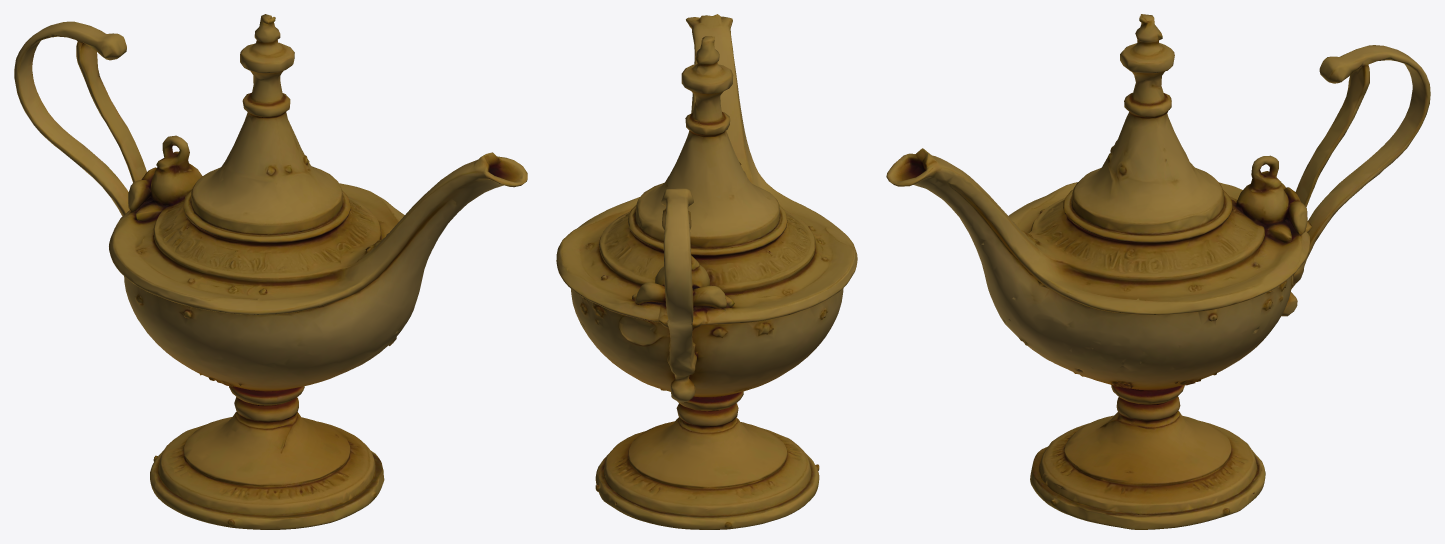
The model's file is lamp.glb.
3 renders of one model, left to right at view 1: azimuth 30°, elevation 25°; view 2: azimuth 150°, elevation 25°; view 3: azimuth 270°, elevation 25°, orthographic. The views are drawn at different scales.
Parts seen in each view (by area): view 1: tripo_node_6616be32-9421-4d6b-9b88-27f44802001b; view 2: tripo_node_6616be32-9421-4d6b-9b88-27f44802001b; view 3: tripo_node_6616be32-9421-4d6b-9b88-27f44802001b.
Part boxes in pixels (box(x1,y1,x2,y2)): tripo_node_6616be32-9421-4d6b-9b88-27f44802001b: box(14, 14, 527, 529); tripo_node_6616be32-9421-4d6b-9b88-27f44802001b: box(556, 14, 857, 529); tripo_node_6616be32-9421-4d6b-9b88-27f44802001b: box(886, 14, 1430, 529).
Bounding box in the file's own units: 0.5831 × 0.9429 × 1.
Materials: 1 (1 with a texture image).
